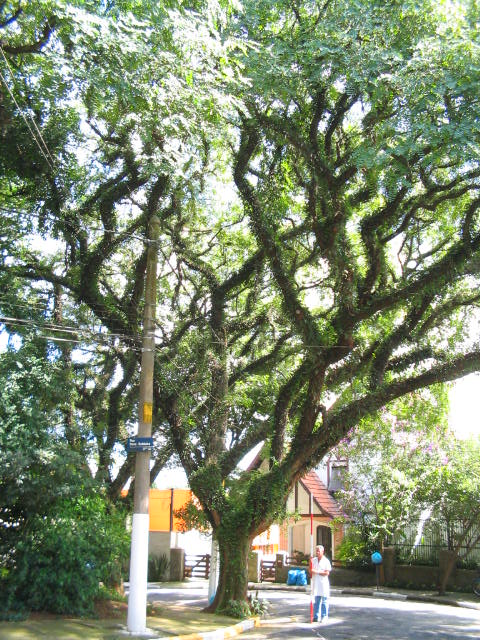stem: (200, 535, 264, 619)
stick: (304, 493, 318, 622)
tree: (2, 2, 480, 618)
